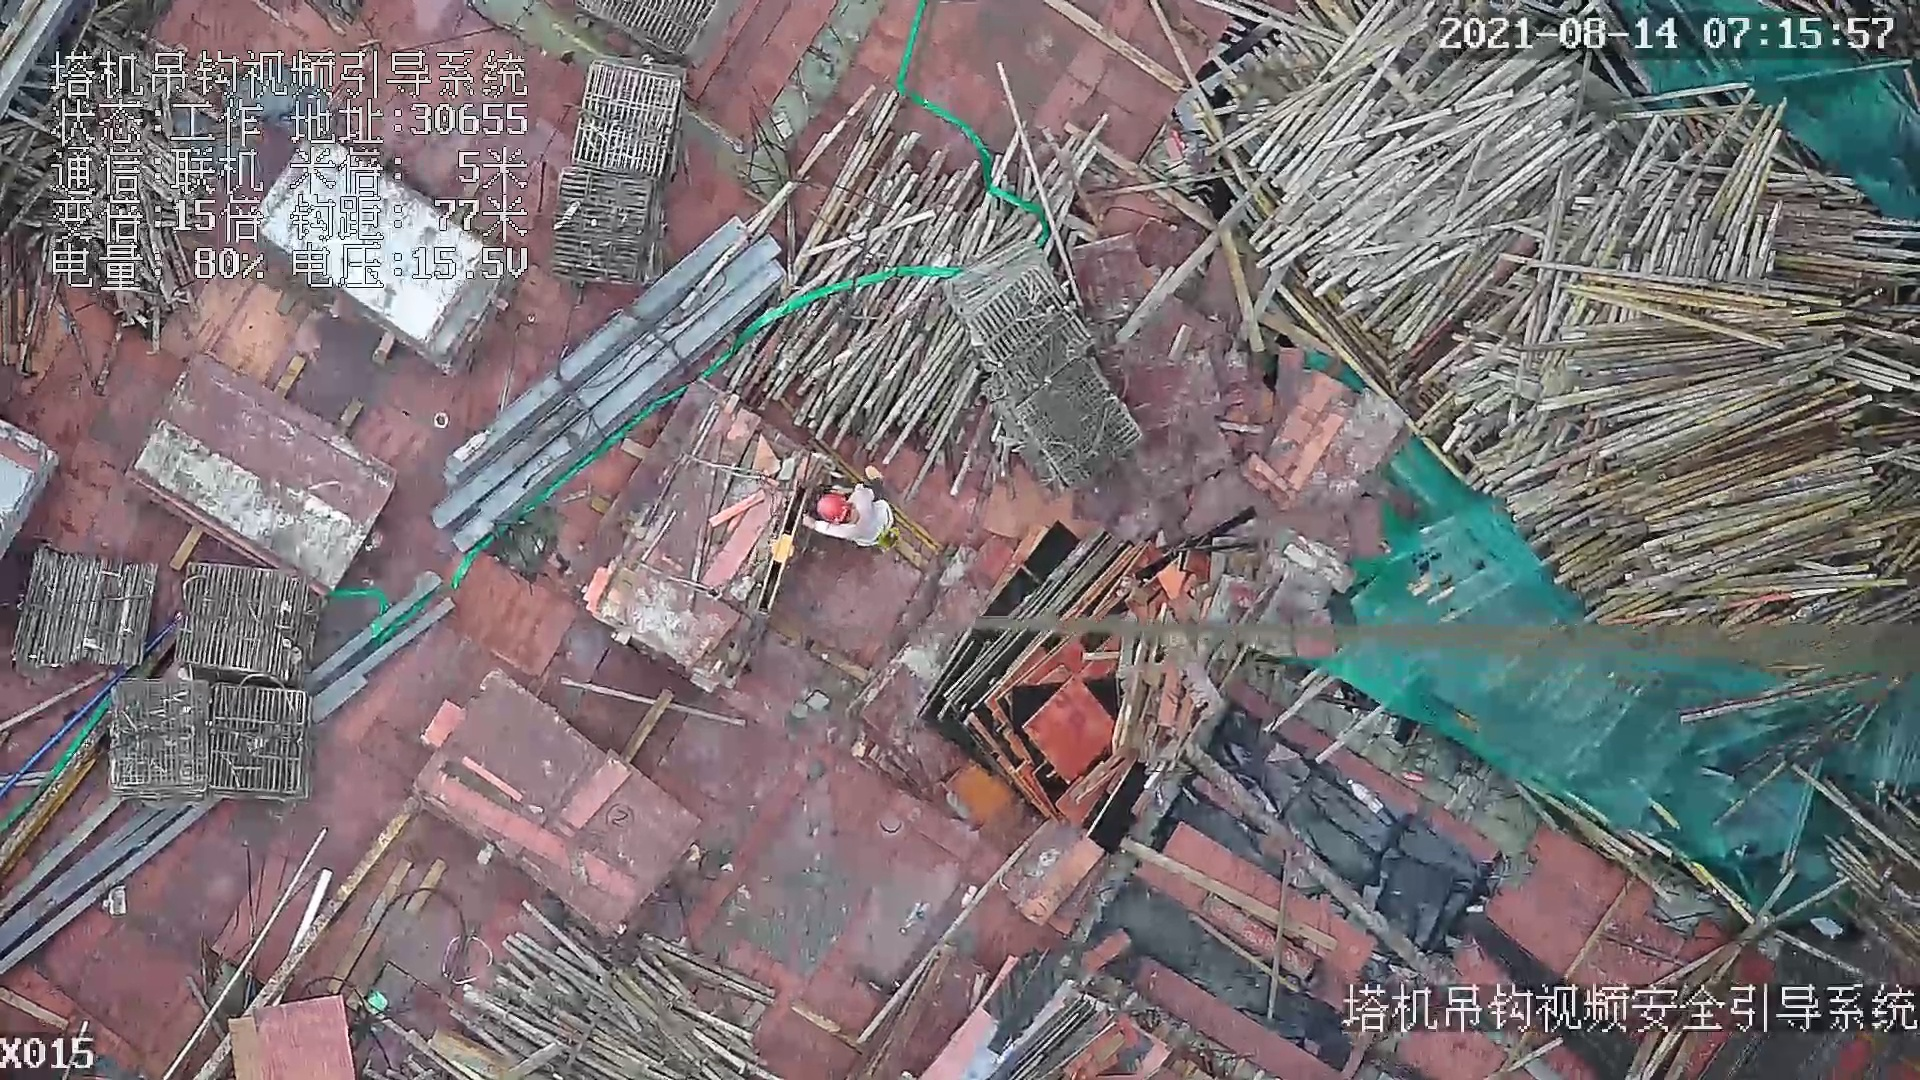helmet: (817, 490, 851, 531)
hook: (755, 476, 799, 623)
person: (809, 462, 900, 549)
